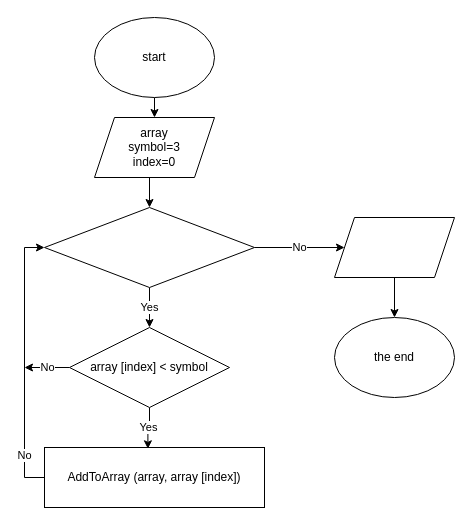
The diagram is 472 pixels wide and 525 high, and some of its shapes have lost their labels. Each missing label, with the centre of its shape:
"index < array.Lenght" goes at point 149,247.
"print array" goes at point 394,247.
